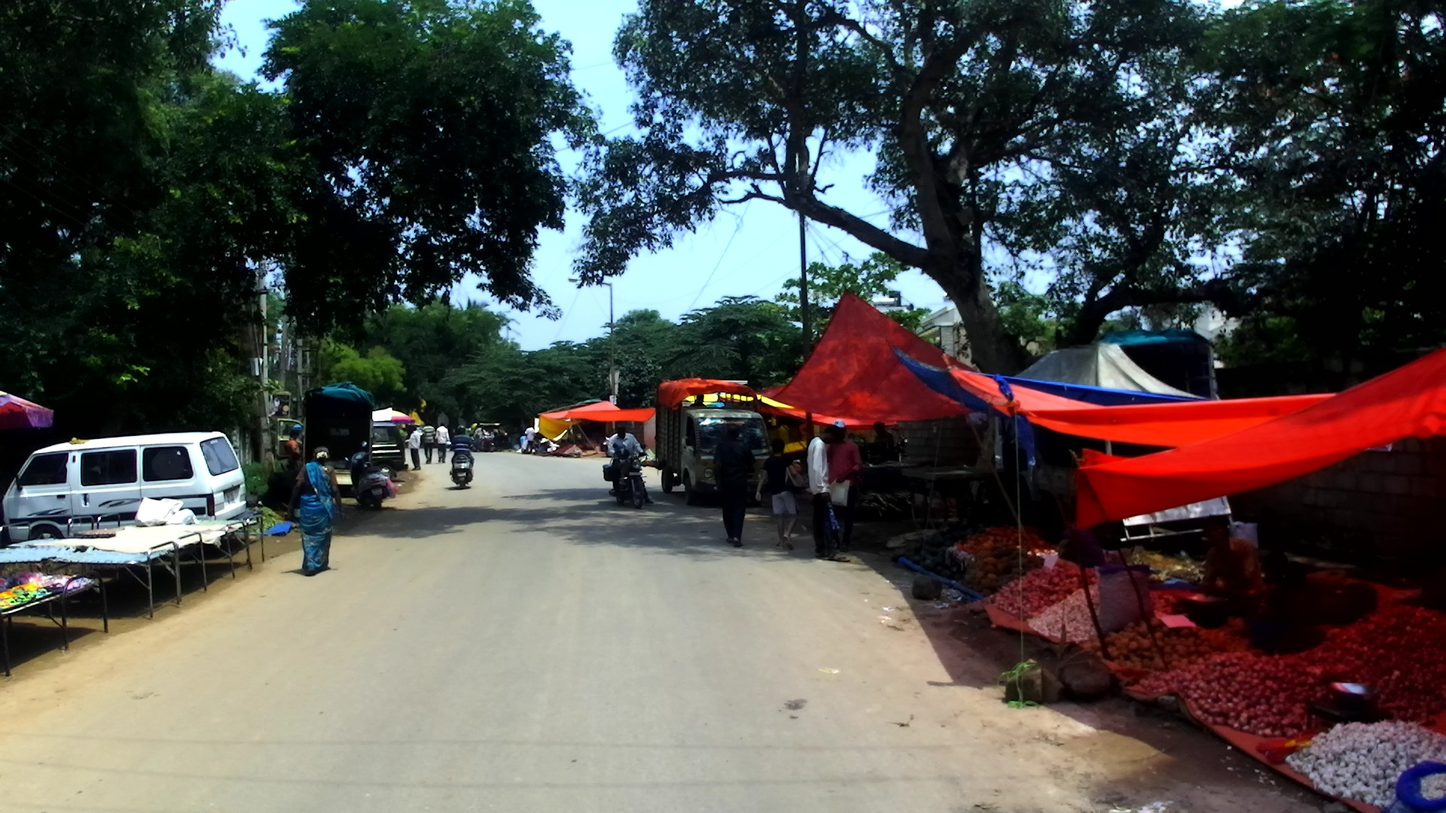autorickshaw: (470, 422, 511, 449)
car: (1, 431, 248, 549), (370, 422, 409, 470)
motorcycle: (344, 440, 398, 511), (602, 443, 648, 510), (446, 441, 474, 488), (469, 435, 497, 452), (895, 434, 909, 464)
person: (1243, 551, 1325, 653), (286, 445, 346, 577), (1197, 514, 1263, 613), (755, 439, 811, 551), (807, 425, 850, 562), (713, 425, 758, 548), (825, 419, 862, 553), (280, 428, 302, 509), (873, 421, 895, 461), (404, 426, 421, 471), (434, 422, 450, 464), (423, 421, 436, 464), (523, 423, 537, 454), (415, 425, 423, 447), (520, 417, 529, 434), (474, 422, 480, 433)
rider: (606, 423, 654, 504), (450, 425, 477, 466), (473, 425, 491, 452)
truck: (993, 328, 1234, 542), (655, 379, 774, 506), (276, 379, 378, 487)
vehicle fallback: (884, 466, 1003, 531)
